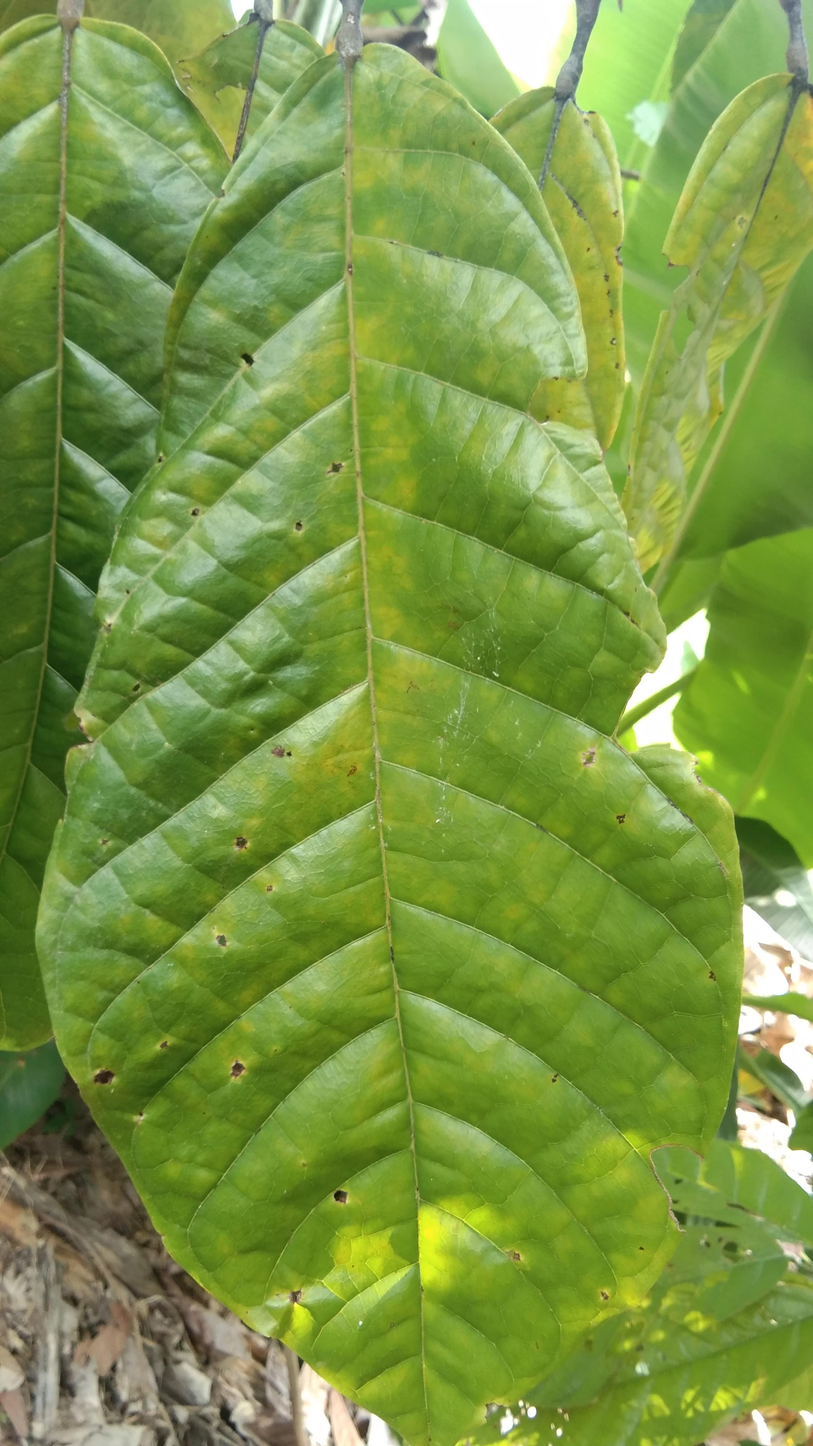deficiencia_potasio: (20, 1, 763, 1446)
